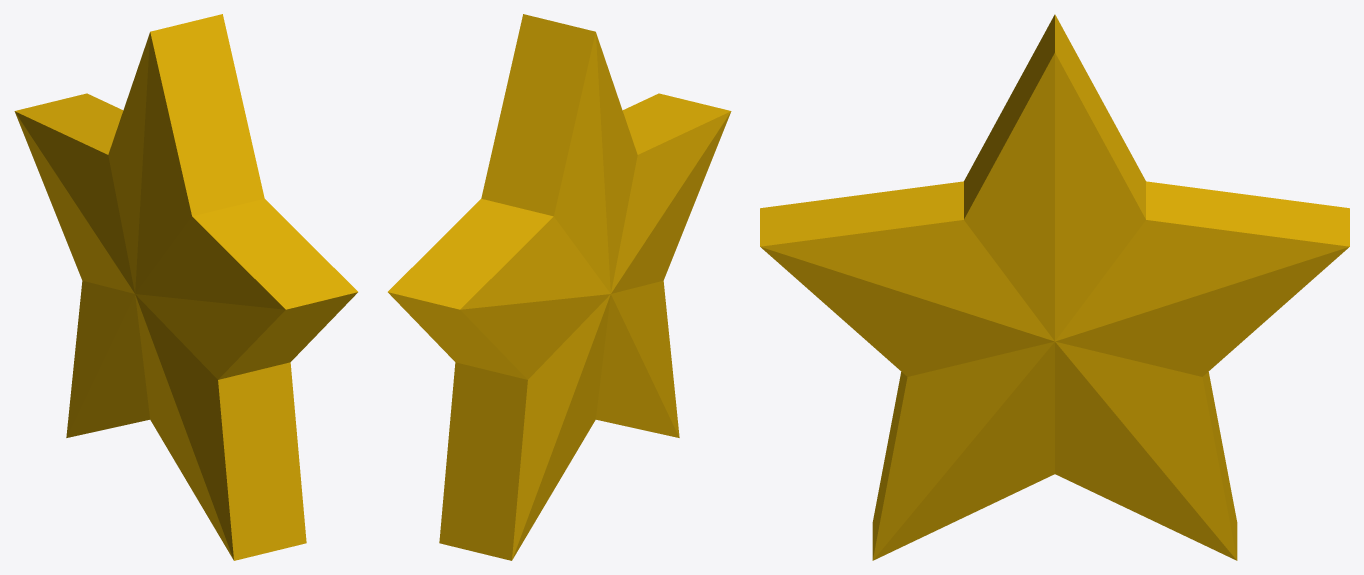
The model's file is star.gltf.
3 views of the same model, side by side, from view 1: azimuth 30°, elevation 25°; view 2: azimuth 150°, elevation 25°; view 3: azimuth 270°, elevation 25° (orthographic). The views are drawn at different scales.
Visible parts, largest first — view 1: Star; view 2: Star; view 3: Star.
Part boxes in pixels (box(x1,y1,x2,y2)): Star: box(14, 14, 357, 560); Star: box(388, 14, 731, 560); Star: box(760, 14, 1349, 560).
Size of the model in its own units: 0.4156 by 1.81 by 1.9.
